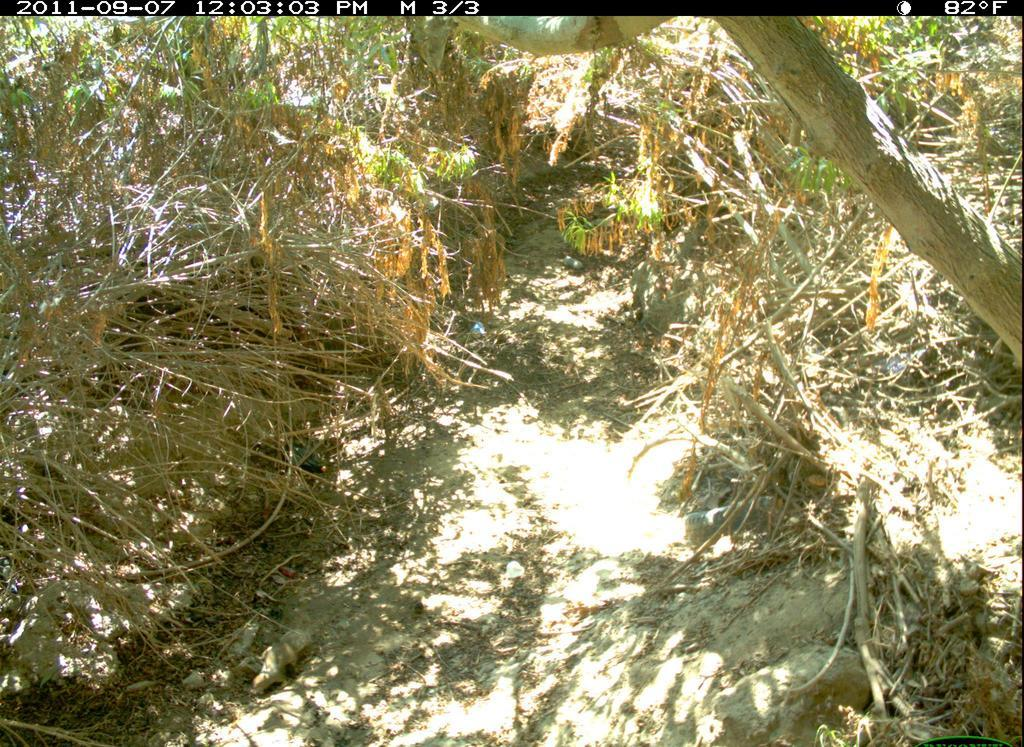squirrel: (250, 627, 315, 695)
